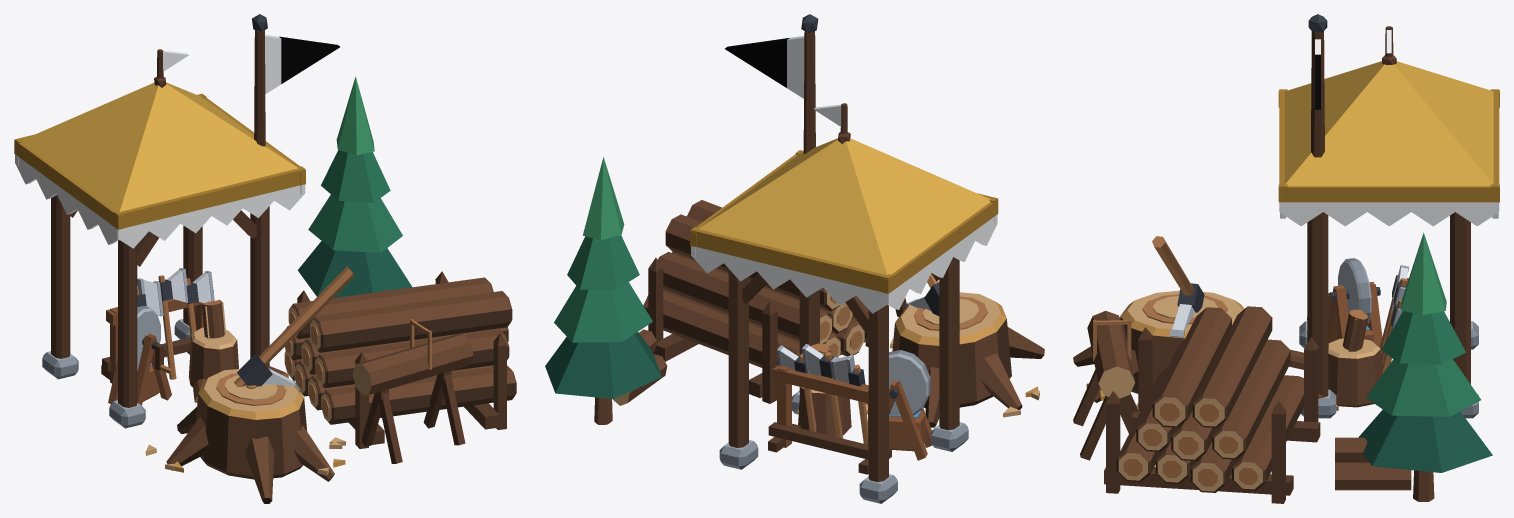
The model's file is Bld_LumberCamp_L2.fbx.
3 views of the same model, side by side, from view 1: azimuth 30°, elevation 25°; view 2: azimuth 150°, elevation 25°; view 3: azimuth 270°, elevation 25° (orthographic). The views are drawn at different scales.
Parts seen in each view (by area): view 1: Bld_LumberCamp_L2; view 2: Bld_LumberCamp_L2; view 3: Bld_LumberCamp_L2.
Boxes of the visible parts, x1,y1,x2,y2 form: Bld_LumberCamp_L2: [14, 14, 516, 503]; Bld_LumberCamp_L2: [545, 14, 1044, 503]; Bld_LumberCamp_L2: [1073, 14, 1499, 503].
Size of the model in its own units: 3.52 by 3.67 by 3.47.
